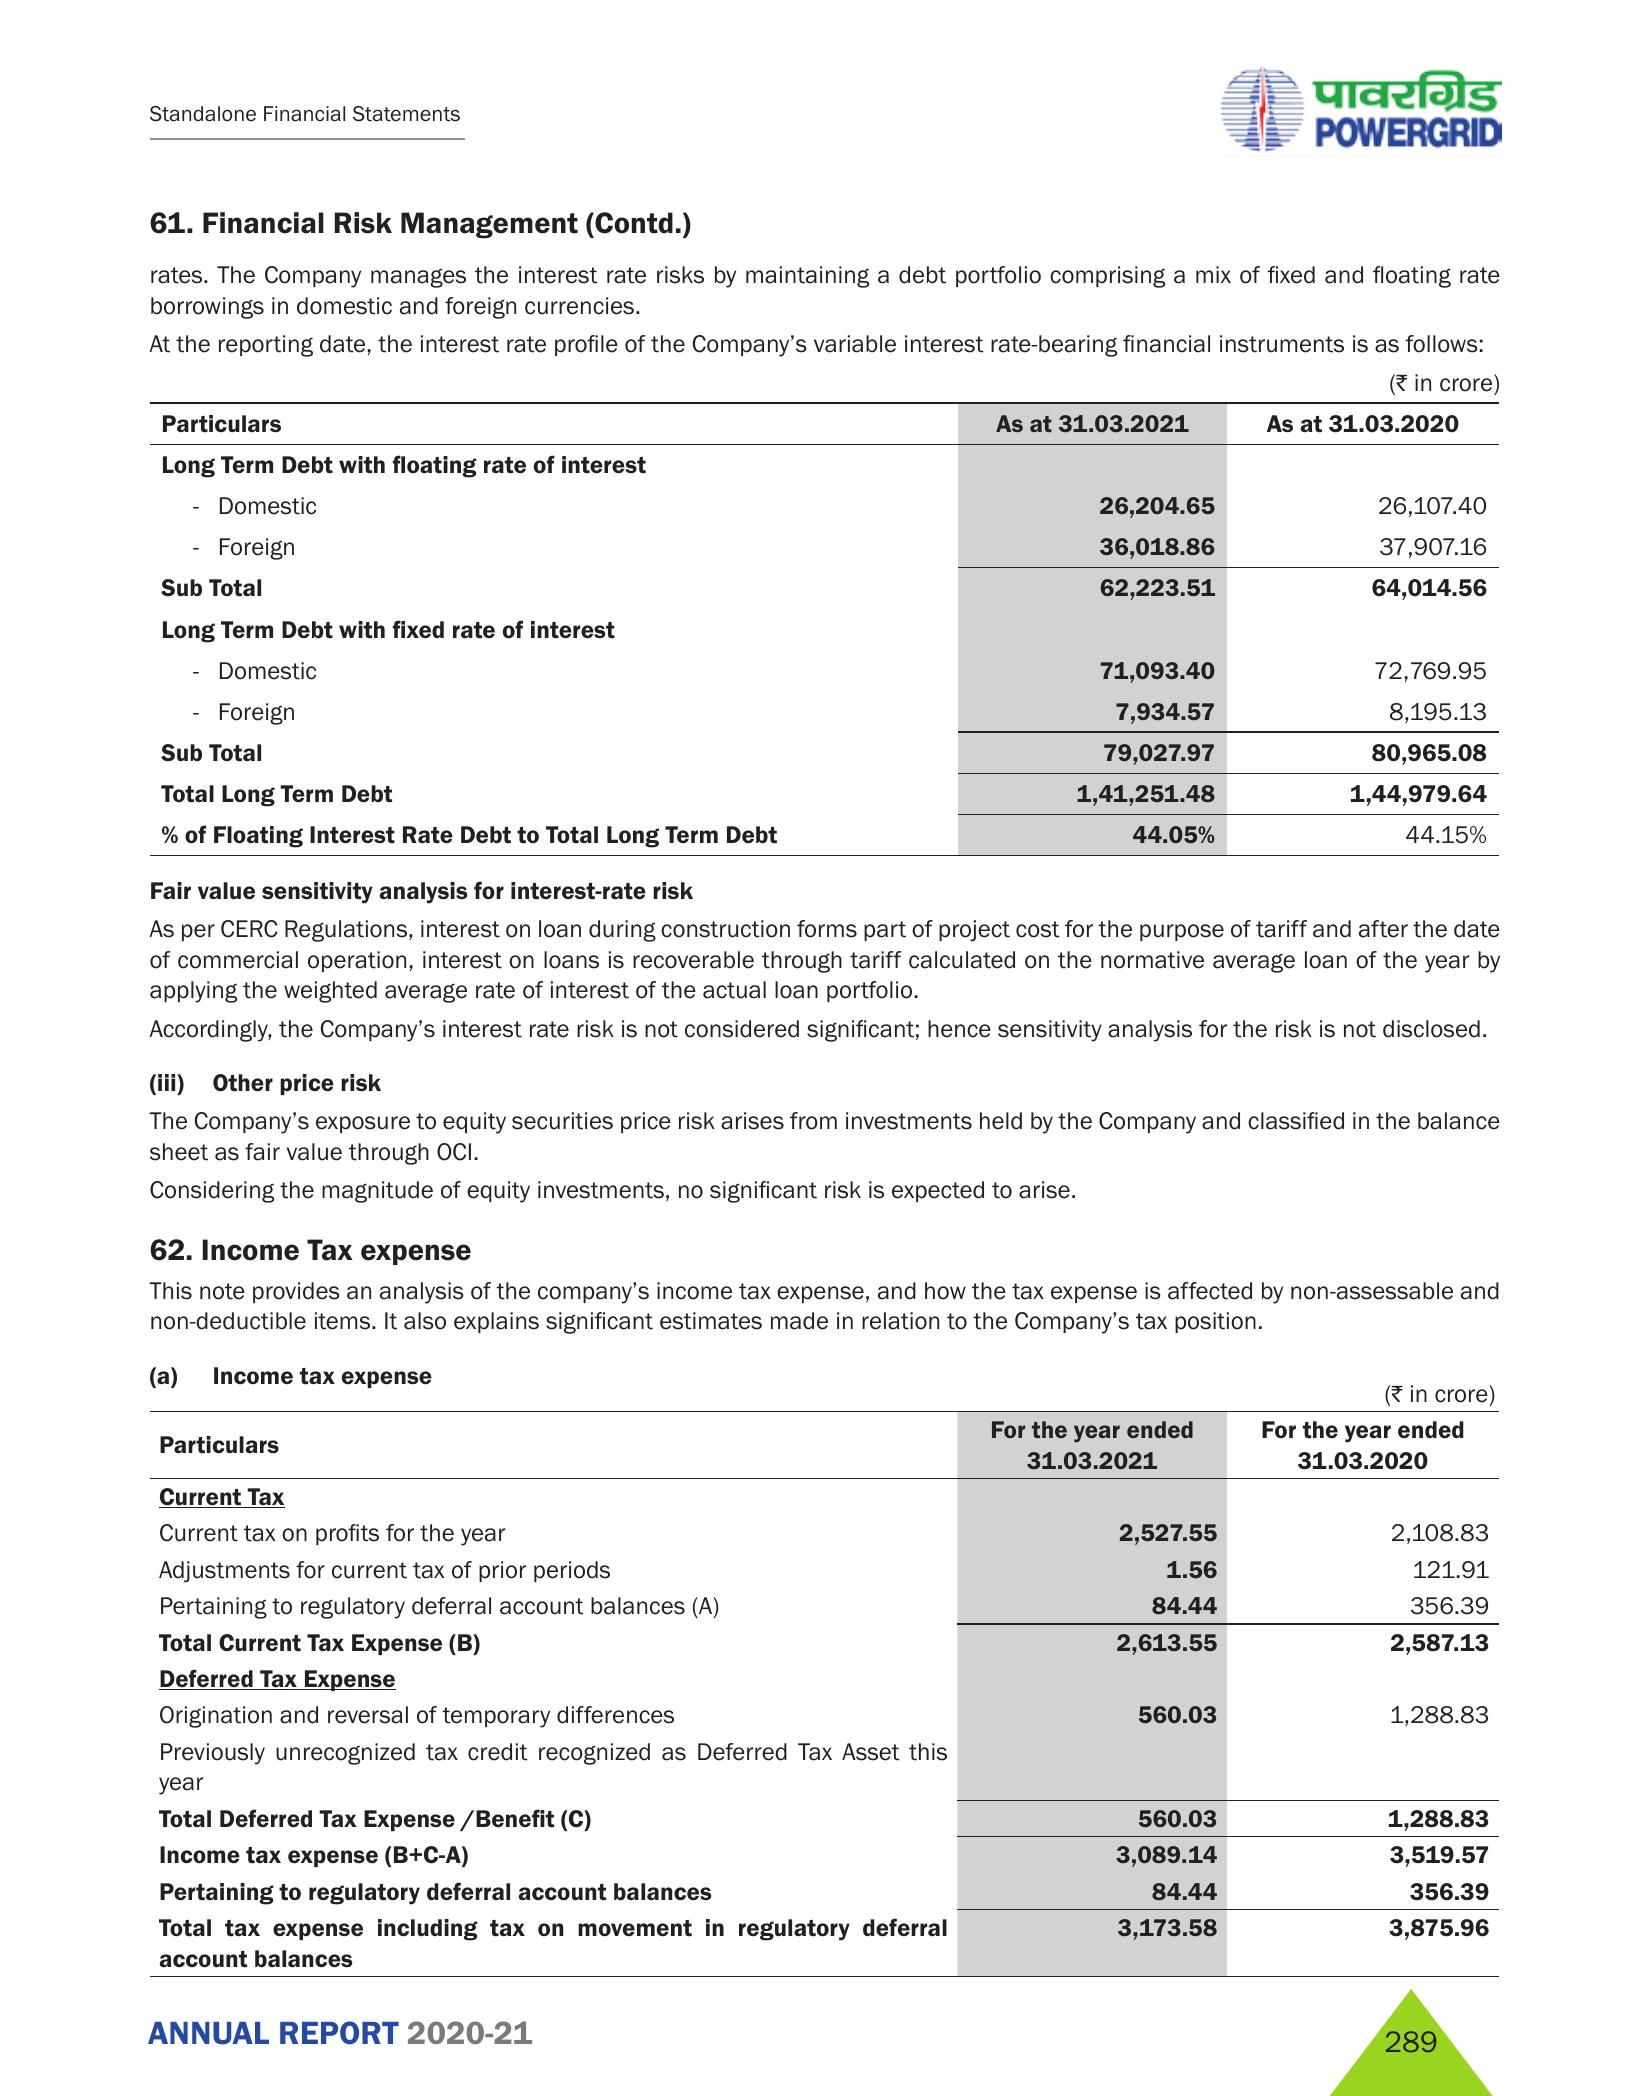Footer: (0, 1968, 1650, 2096)
Header: (0, 0, 1650, 168)
Table: (151, 1410, 1504, 1974), (126, 400, 1528, 863)
